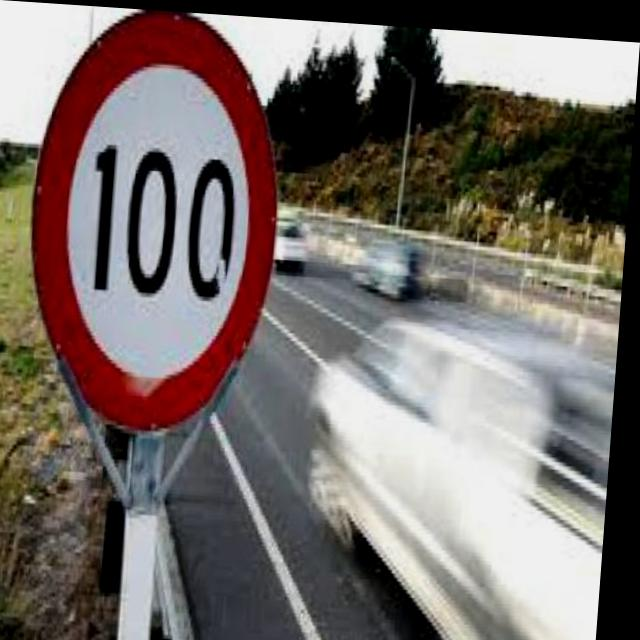limit100: (16, 3, 299, 451)
